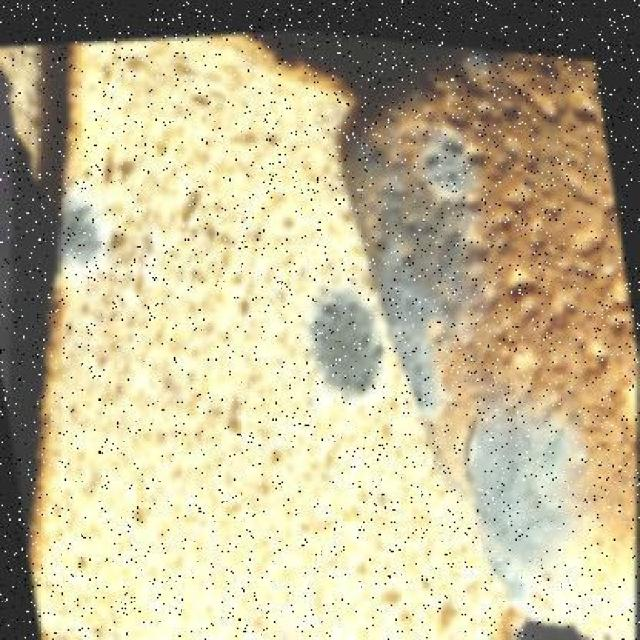Wet: (26, 23, 640, 607)
